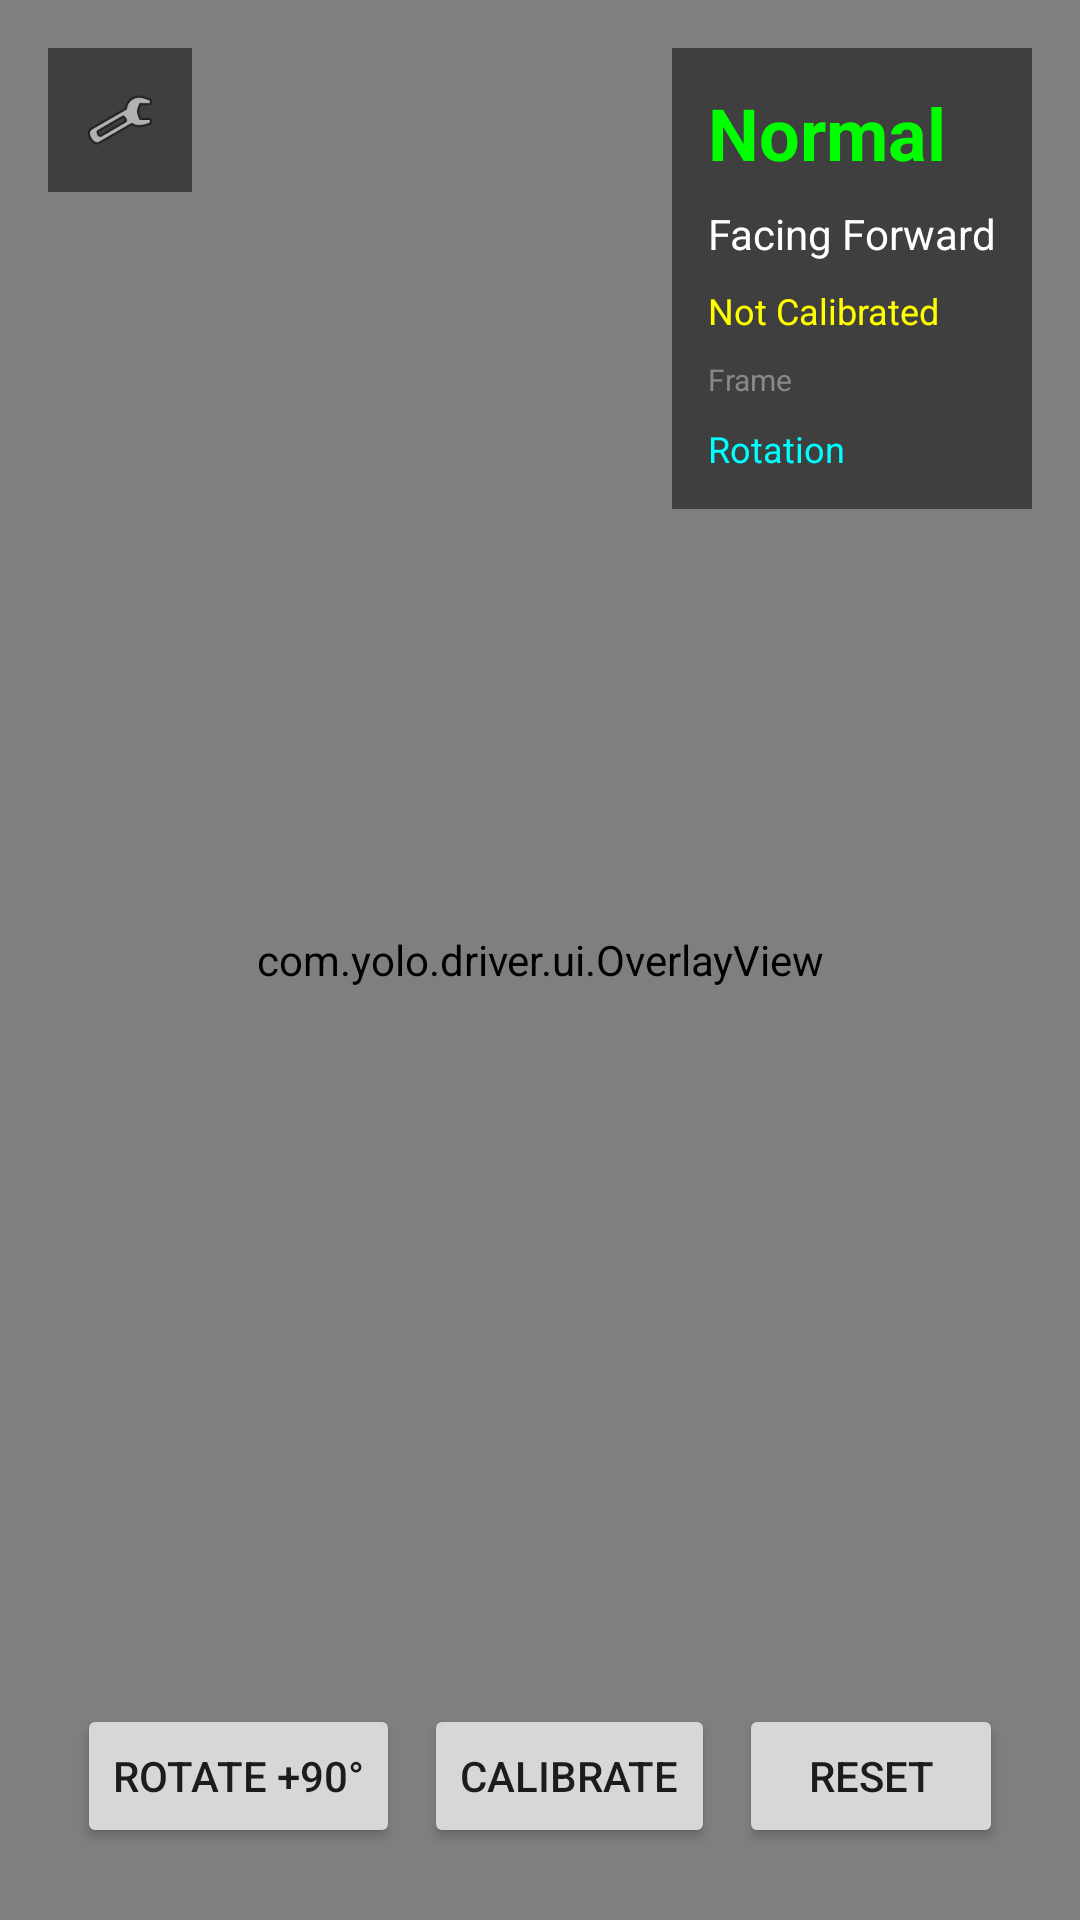

Point at icon controls on the screen. Image size 1080*1920, points as point (x, y).
Settings: point (120, 120)
